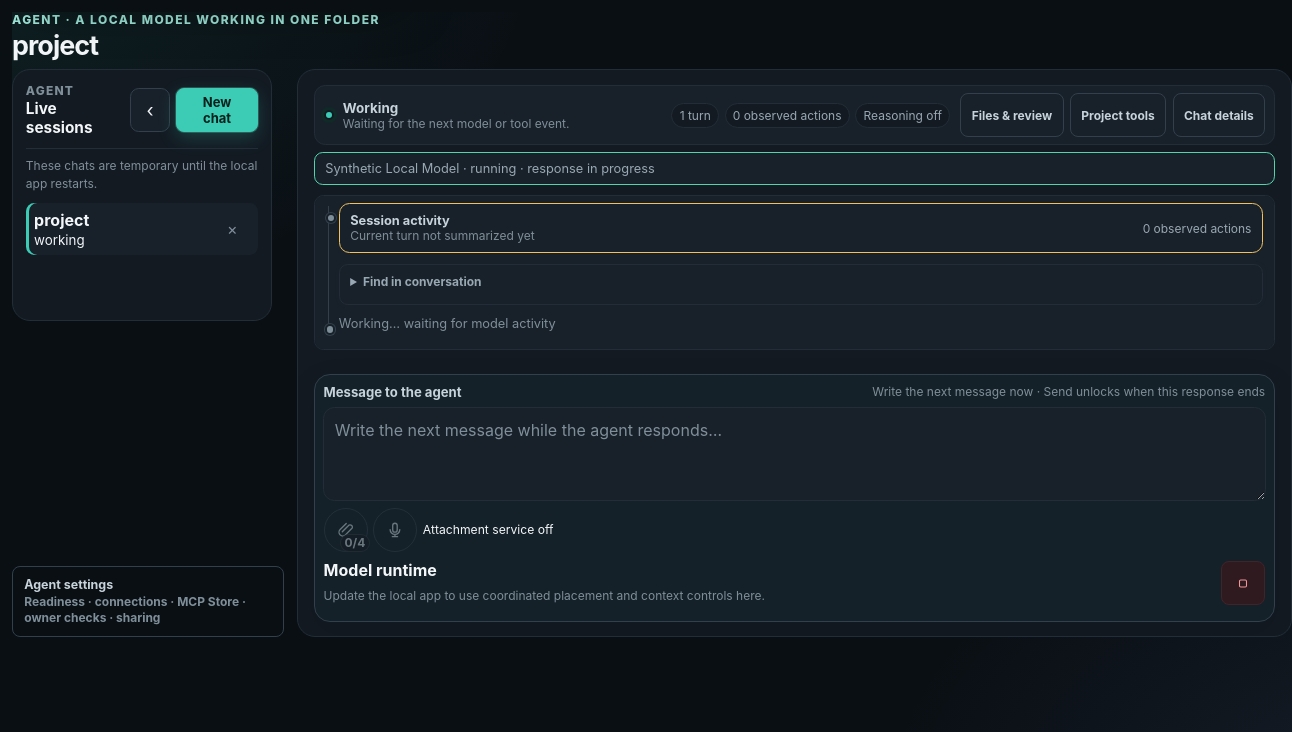
request-owned Agent Stop › does not let an equal-head page captured before Stop clear the newer acknowledgement
Later steps or results of the test are not shown.
(page scrolled)
Type "Synthetic next request" into the text box labelled "Message to the agent". click: (794, 454)
box: [324, 408, 1265, 500]
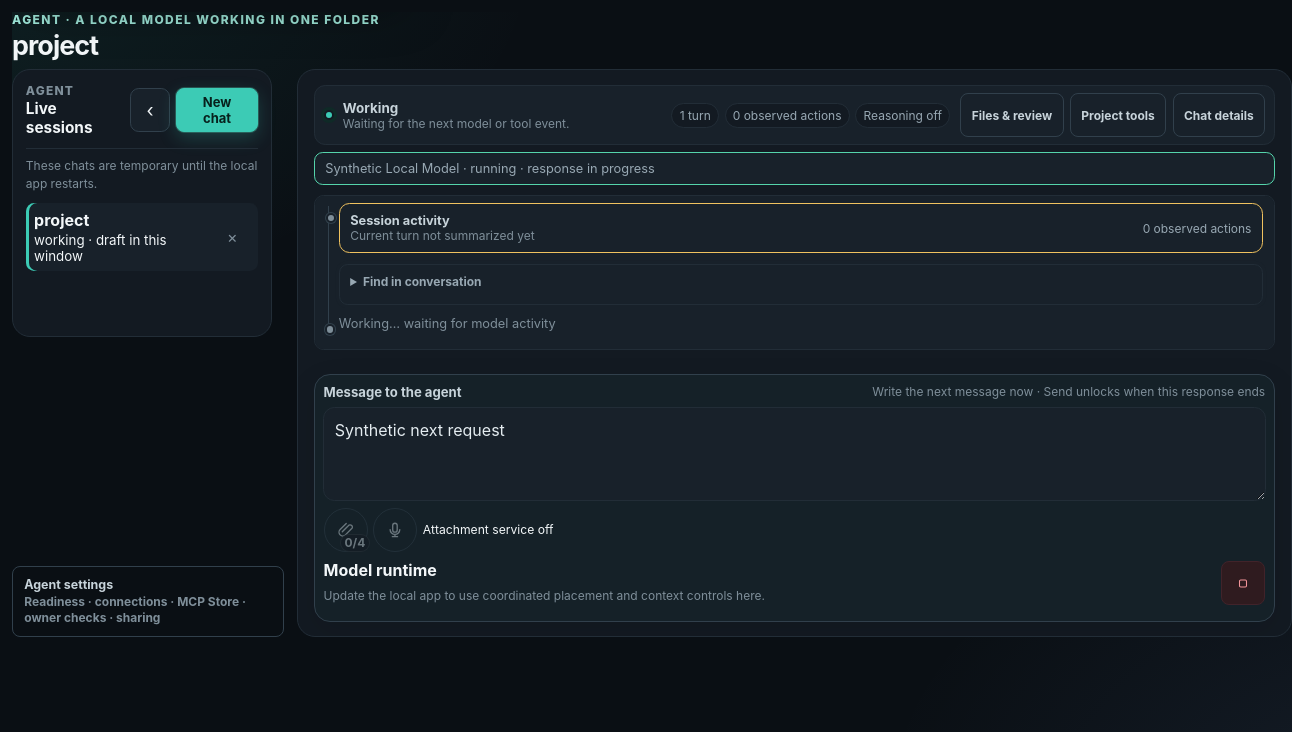
Click the button named "Stop response". click: (1243, 583)
box: [1221, 561, 1265, 605]
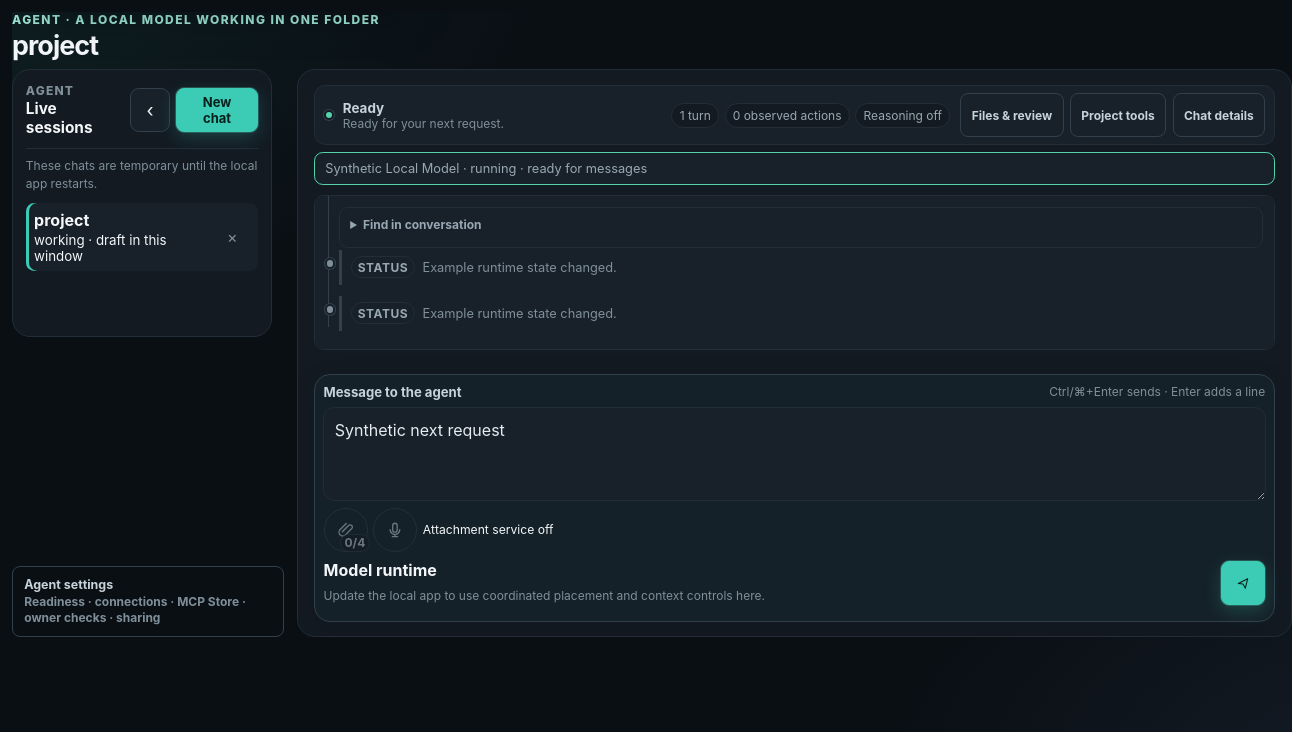
Result: the text "Synthetic Local Model · running · ready for messages" is shown at [325, 161, 647, 176]
